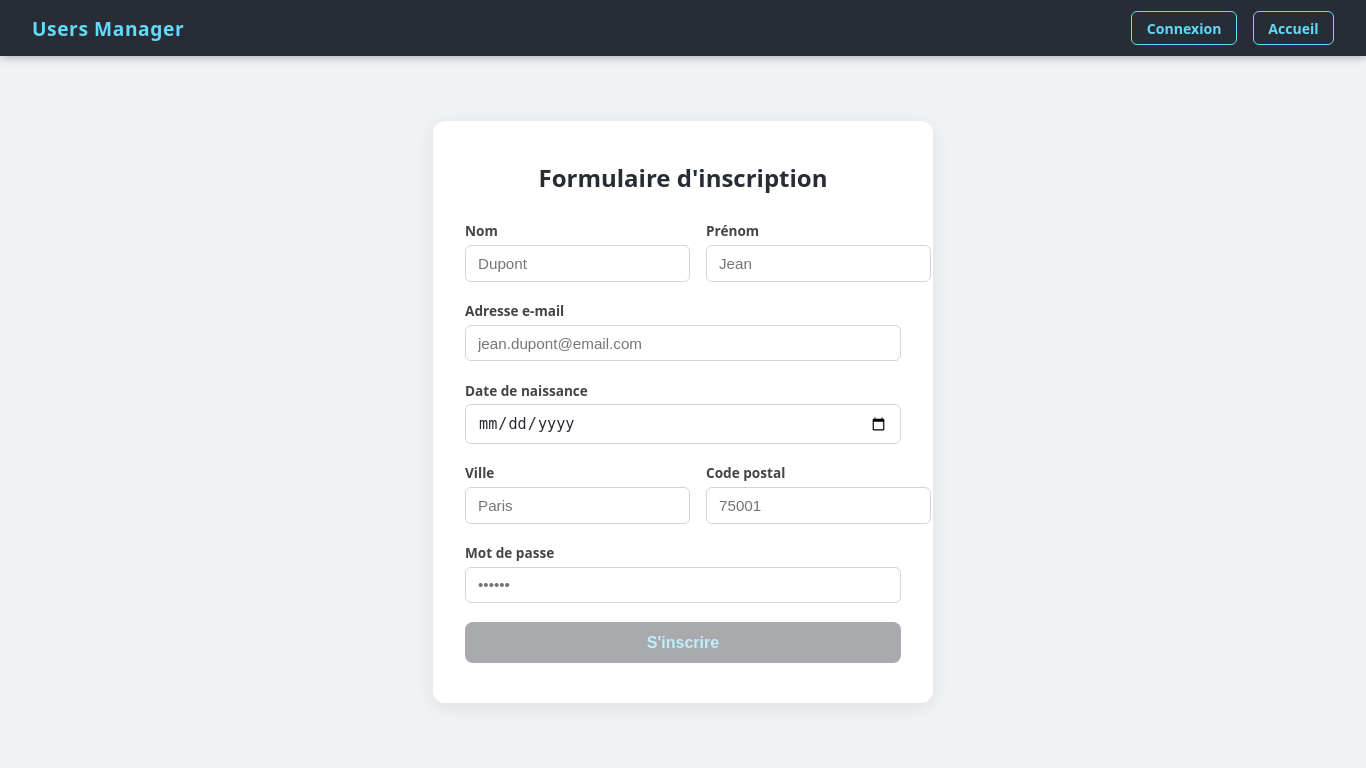
Test case: admin sees delete and eye buttons in user table
Click the link "Connexion" at [1184, 28], box x1=1132 y1=11 x2=1237 y2=45
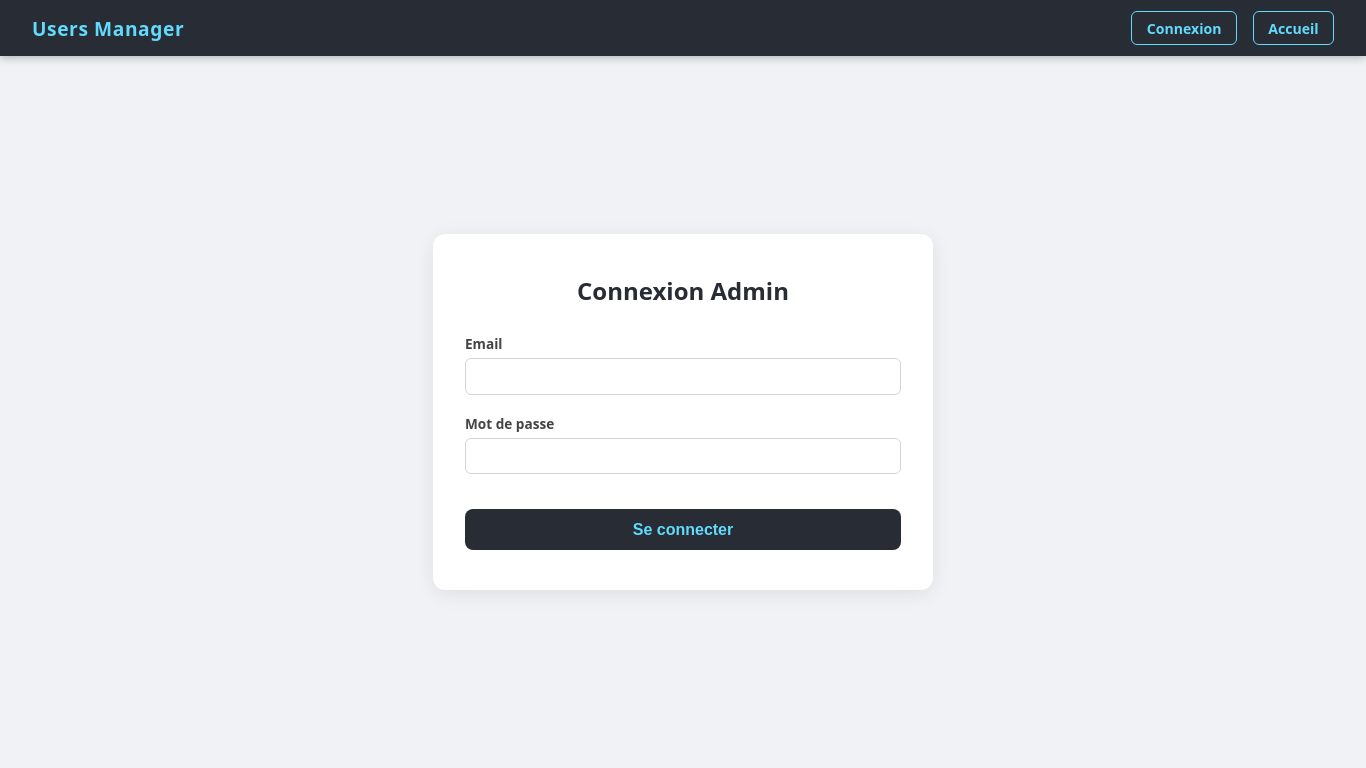
Type "admin@test.fr" into the field labelled "Email" at [683, 376], box x1=465 y1=358 x2=901 y2=395
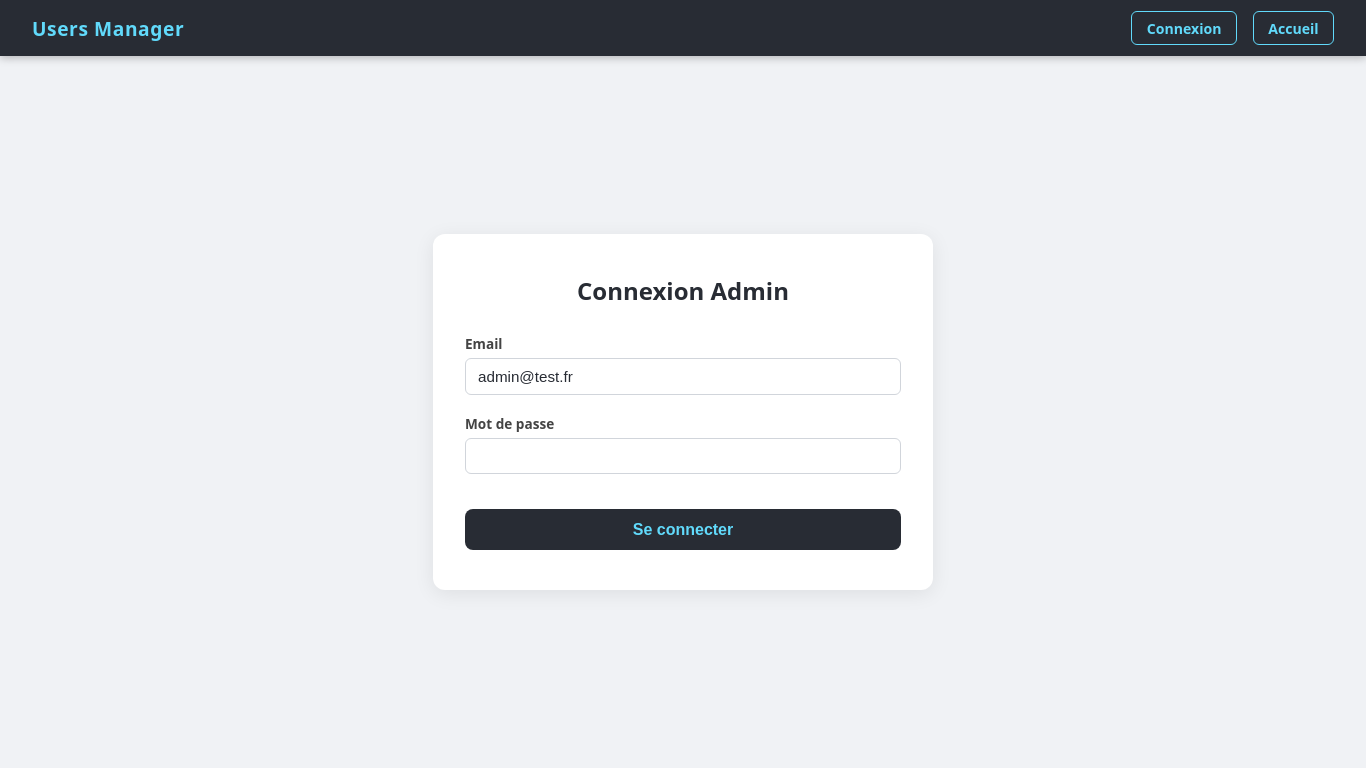
Type "secret" into the password field labelled "Mot de passe" at [683, 456], box x1=465 y1=438 x2=901 y2=474
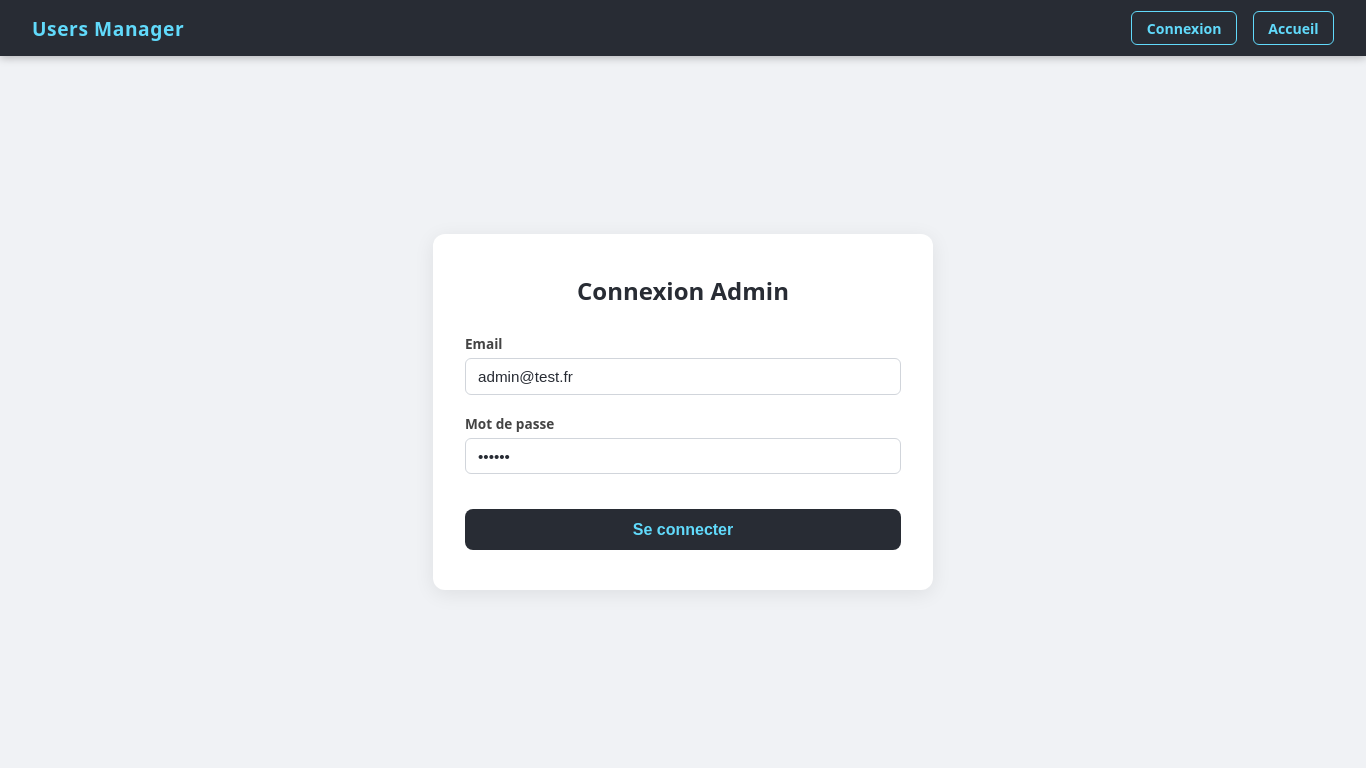
Click the button "Se connecter" at [683, 530], box x1=465 y1=510 x2=901 y2=550
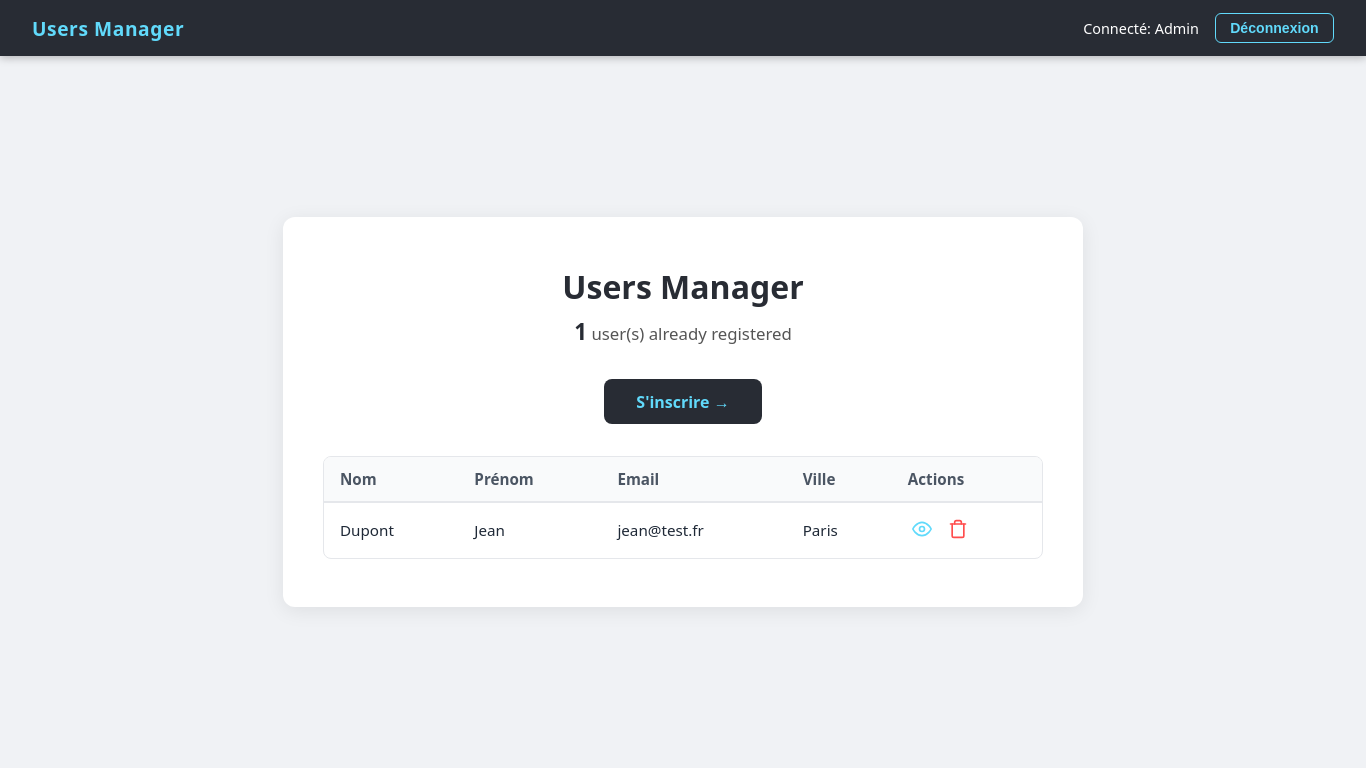
Expected: the button "Déconnexion" is shown, x1=1215 y1=13 x2=1334 y2=43
Expected: the button titled "supprimer" is shown, x1=944 y1=515 x2=972 y2=546
Expected: the button titled "voir les détails" is shown, x1=908 y1=515 x2=936 y2=546
